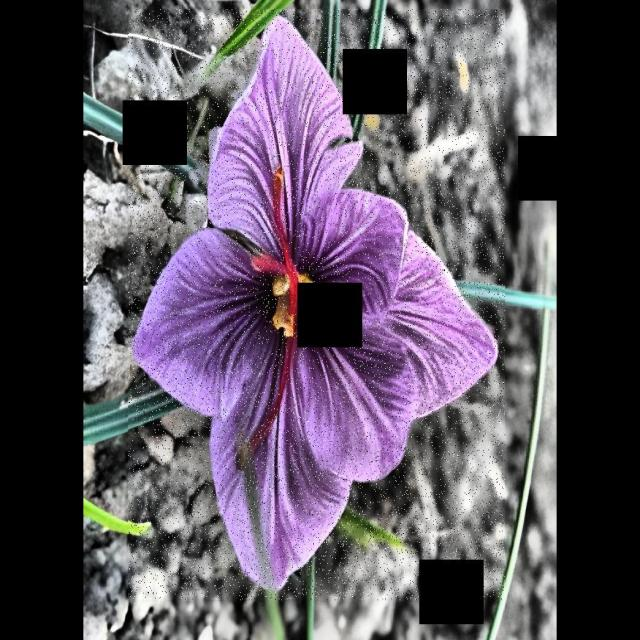Flower: (128, 9, 505, 600)
stigma: (245, 331, 297, 455), (268, 166, 300, 315), (248, 252, 306, 284)
